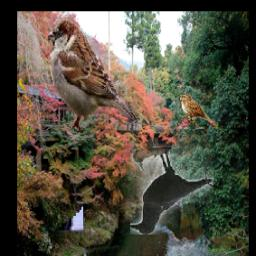Crow: (130, 148, 213, 234), (40, 94, 83, 231)
Sparrow: (48, 18, 138, 132), (178, 92, 220, 129)
